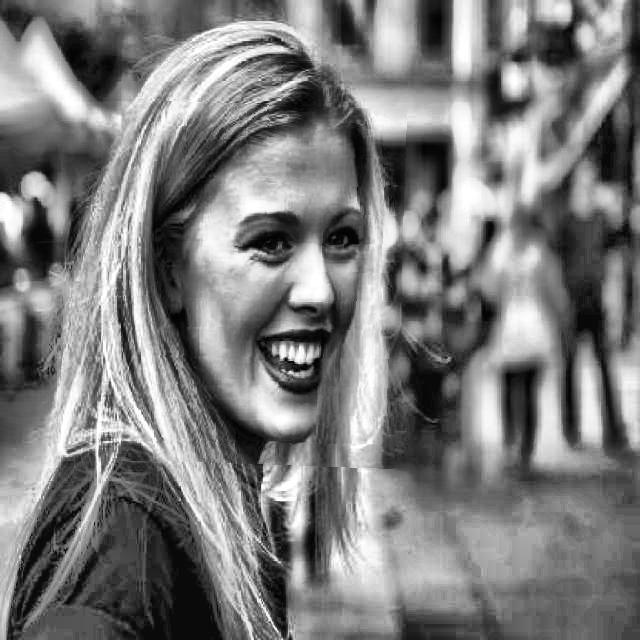happy: (156, 103, 404, 467)
